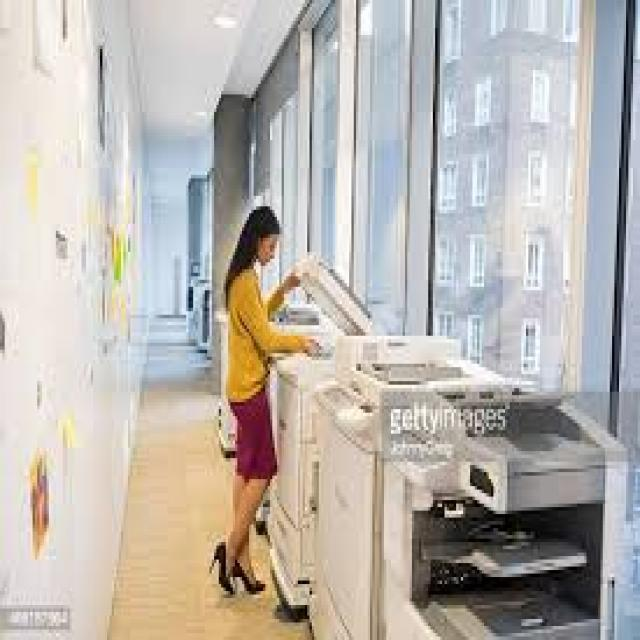printer: (383, 383, 625, 640), (317, 330, 385, 640), (274, 249, 328, 619)
